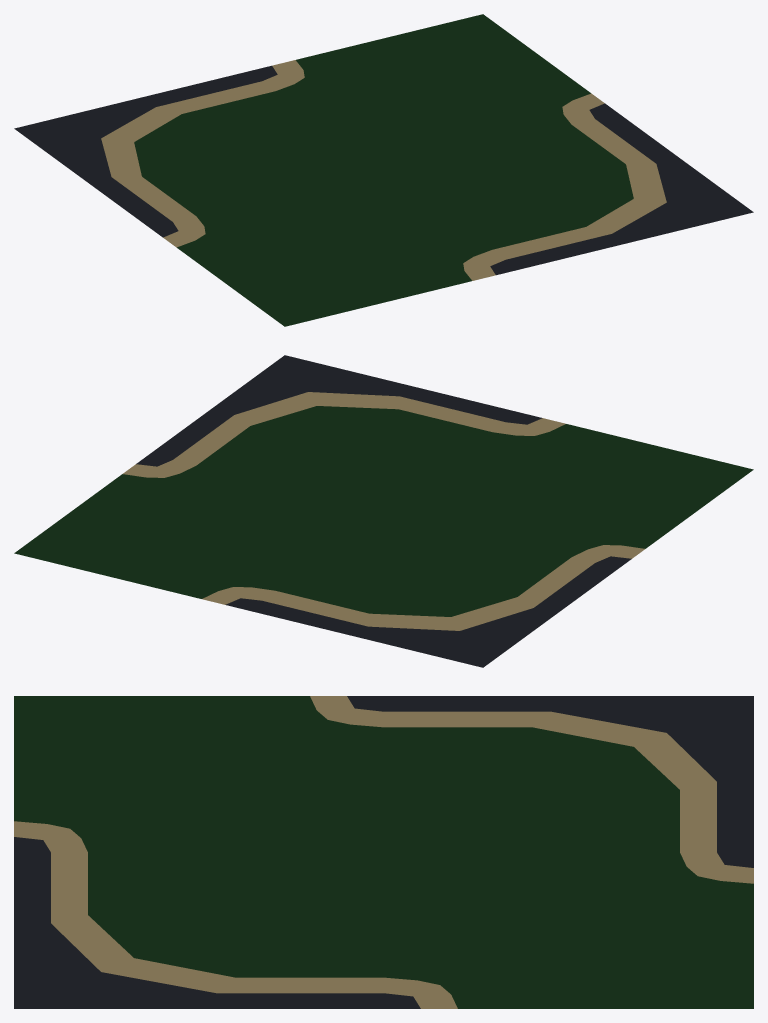
File: terrain_plains_diagnoal1.fbx
3 renders of one model, top to bottom at view 1: azimuth 30°, elevation 25°; view 2: azimuth 150°, elevation 25°; view 3: azimuth 270°, elevation 25°, orthographic. The views are drawn at different scales.
Visible parts, largest first — view 1: terrain_plains_diagnoal1; view 2: terrain_plains_diagnoal1; view 3: terrain_plains_diagnoal1.
Part boxes in pixels (bbox=[...]): terrain_plains_diagnoal1: bbox=[14, 14, 753, 326]; terrain_plains_diagnoal1: bbox=[14, 355, 753, 667]; terrain_plains_diagnoal1: bbox=[14, 696, 753, 1008].
Bounding box in the file's own units: 10 × 0 × 10.
